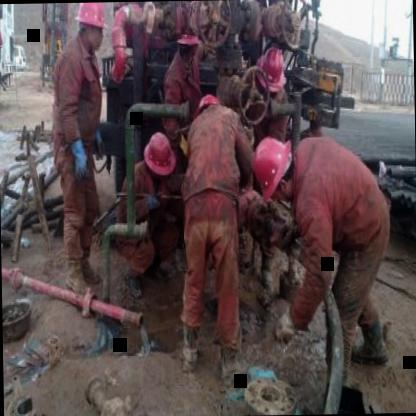helmet: (246, 130, 296, 206), (140, 129, 176, 184), (74, 2, 107, 57), (258, 38, 286, 102), (191, 88, 222, 127)
